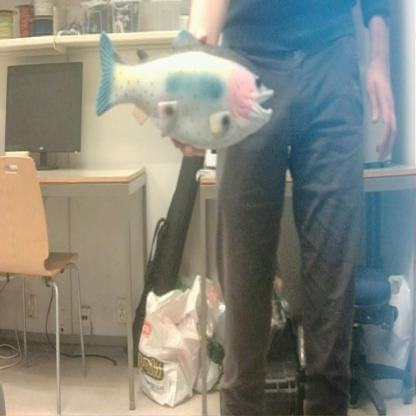rubberfish: (93, 17, 280, 154)
